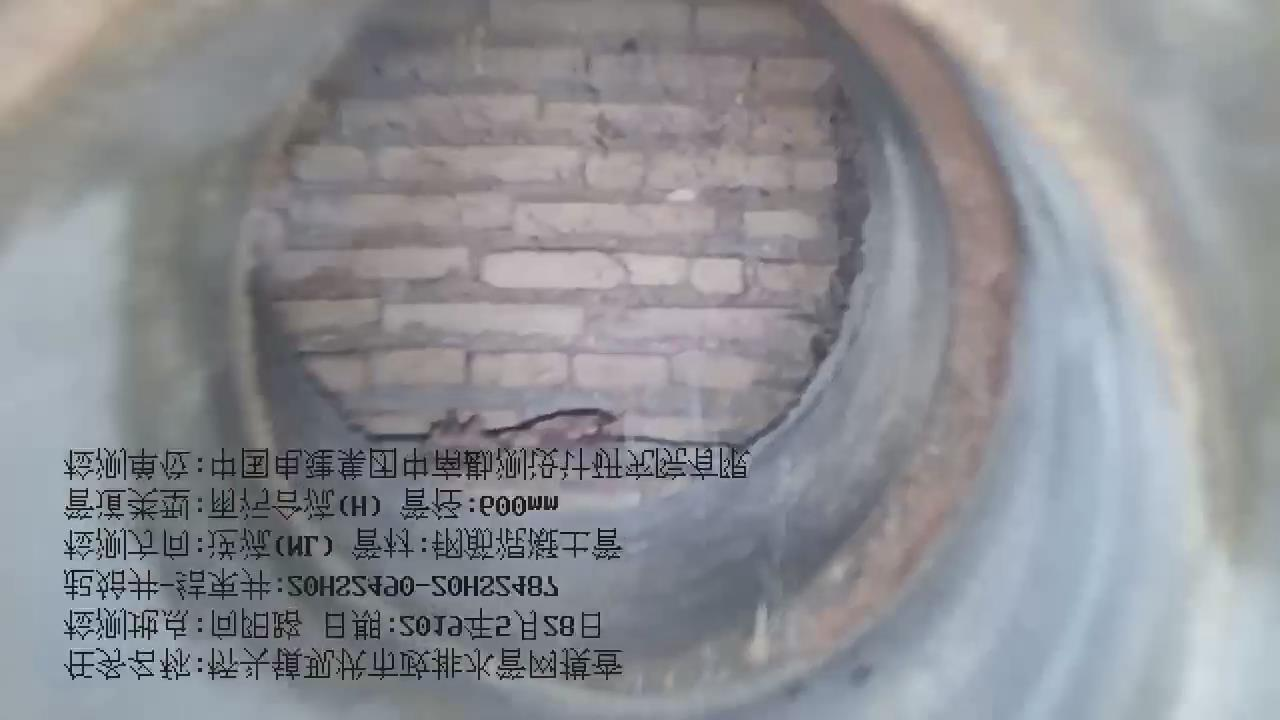CKTJ: (602, 1, 1018, 694)
CQBG: (250, 1, 857, 439)
